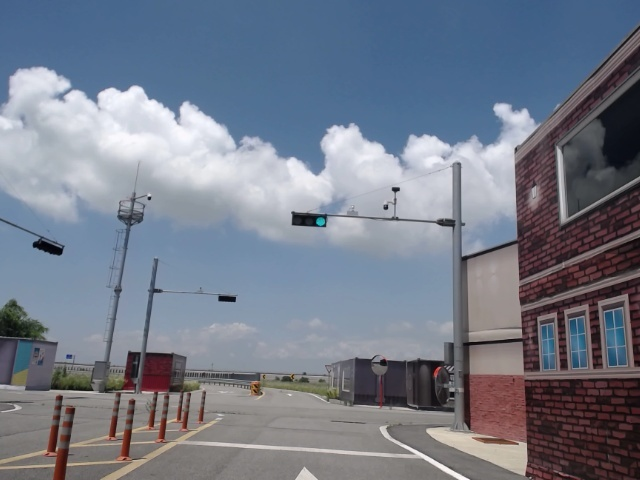green_3: (294, 213, 325, 226)
